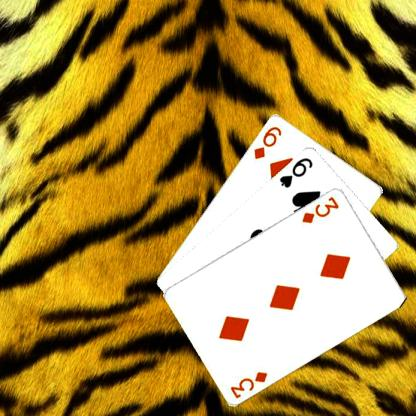3D: (299, 193, 341, 224), (227, 368, 269, 399)
6D: (251, 123, 283, 160)
6S: (277, 154, 314, 188)
